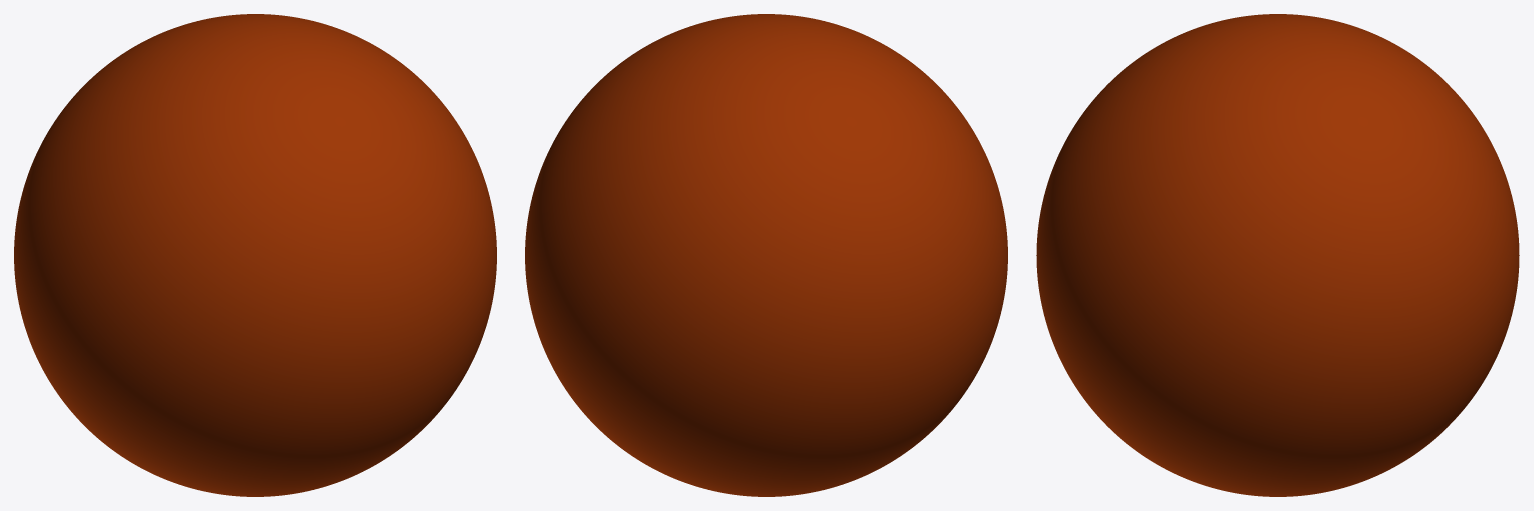
File: Intro Planet.FBX
3 renders of one model, left to right at view 1: azimuth 30°, elevation 25°; view 2: azimuth 150°, elevation 25°; view 3: azimuth 270°, elevation 25°, orthographic.
Visible parts, largest first — view 1: Planet; view 2: Planet; view 3: Planet.
Boxes of the visible parts, box(x1,y1,x2,y2) form: Planet: box(14, 14, 496, 496); Planet: box(525, 14, 1007, 496); Planet: box(1036, 14, 1519, 496).
Size of the model in its own units: 200 by 200 by 200.
